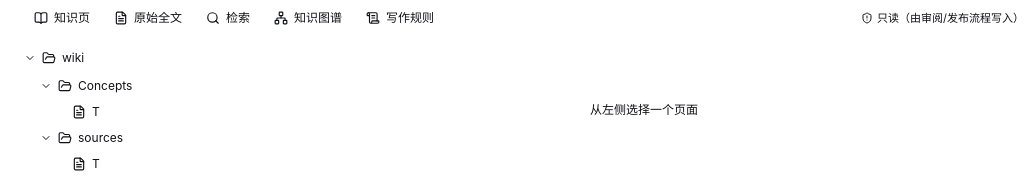
it: KbWikiTab 知识检索（issue 14 统一检索） › 服务失败（未挂载/门禁）：错误态可见
Expected: the element with test id "wiki-group-Concepts" is shown, left=12, top=72, right=252, bottom=124
Click the button with test id "kb-wiki-search-tab" at (228, 18), box left=196, top=6, right=260, bottom=30
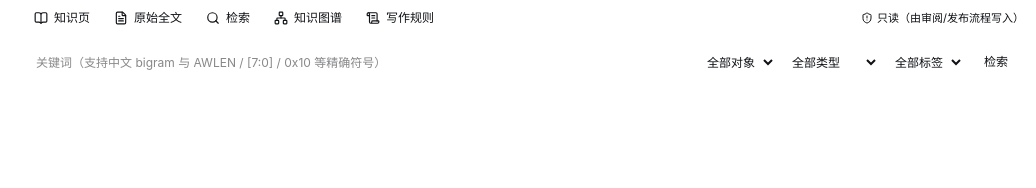
Now the element with test id "kb-wiki-search" is shown, box left=28, top=48, right=1020, bottom=76
Type "DDS" into the field with test id "kb-wiki-search-input" at (360, 62), box left=28, top=48, right=691, bottom=76
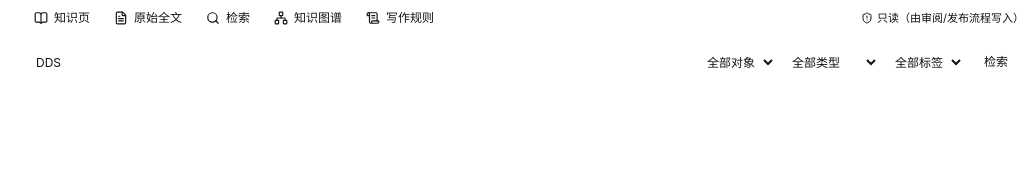
Click the button with test id "kb-wiki-search-run" at (996, 62), box left=972, top=48, right=1020, bottom=76
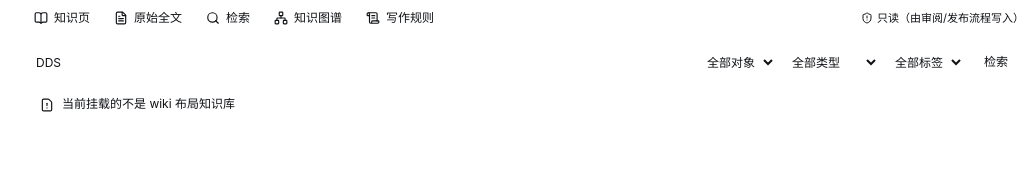
Now the element with test id "kb-wiki-search-error" shows "wiki 布局", box left=62, top=96, right=235, bottom=111
